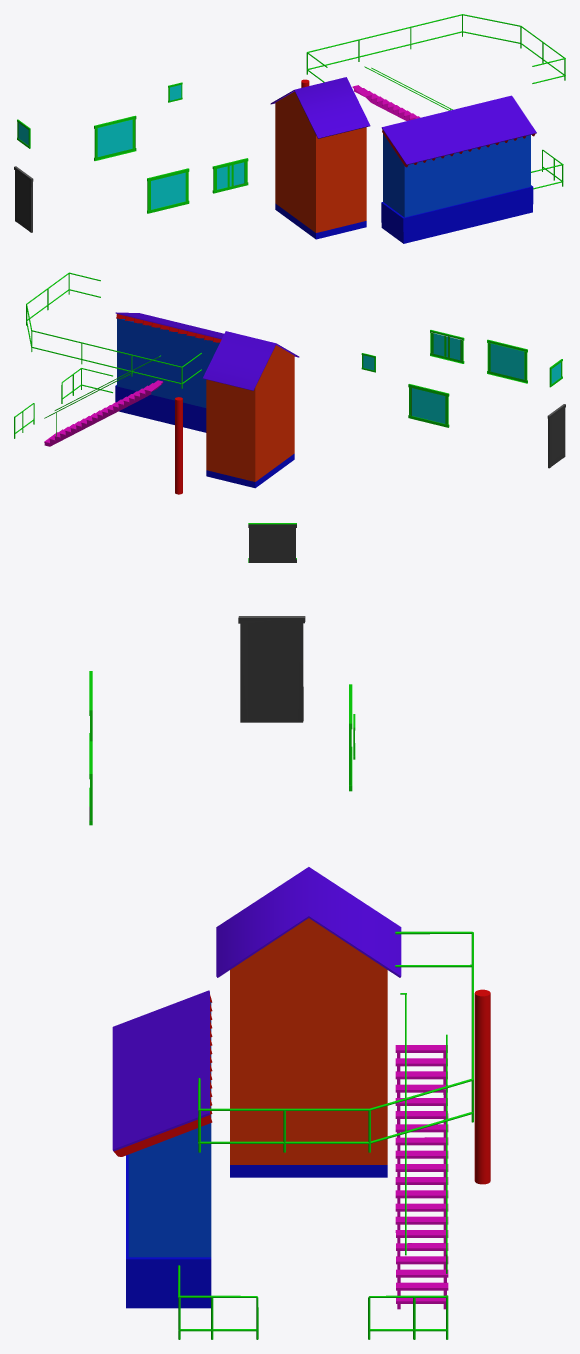
The model's file is Hotel_sub_body_v.fbx.
3 renders of one model, top to bottom at view 1: azimuth 30°, elevation 25°; view 2: azimuth 150°, elevation 25°; view 3: azimuth 270°, elevation 25°, orthographic. The views are drawn at different scales.
Parts seen in each view (by area): view 1: Back_shelf, back_shelf_window, Stair_window_big, Back_door; view 2: Back_shelf, back_shelf_window, Stair_window_big, Back_door; view 3: Back_shelf, Back_door, back_shelf_window.
Part boxes in pixels (x1,y1,x2,y2): Back_shelf: (270, 14, 565, 243); back_shelf_window: (17, 119, 248, 213); Stair_window_big: (94, 115, 136, 160); Back_door: (14, 166, 33, 232); Back_shelf: (14, 272, 299, 494); back_shelf_window: (430, 330, 562, 387); Stair_window_big: (408, 384, 449, 427); Back_door: (547, 404, 565, 468); Back_shelf: (112, 867, 490, 1339); Back_door: (238, 616, 305, 722); back_shelf_window: (89, 523, 296, 825).
Size of the model in its own units: 2665 by 855 by 913.
